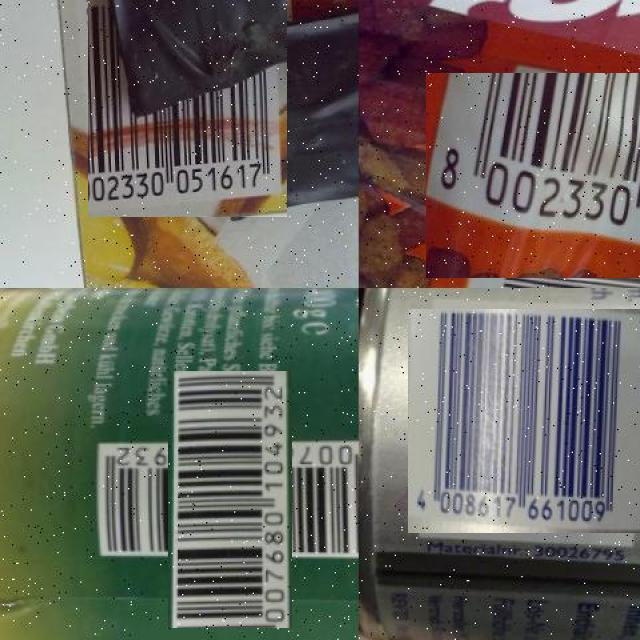Barcode: (412, 305, 640, 537), (80, 0, 297, 208), (431, 68, 640, 283), (135, 404, 325, 595)
